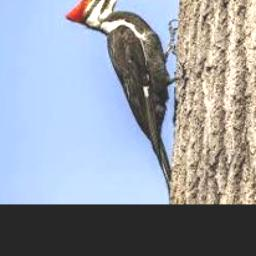Woodpecker: (65, 0, 179, 197)
